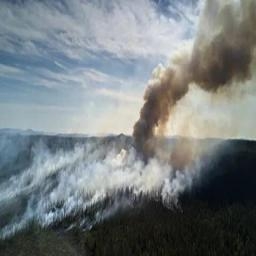Heavy smoke: (105, 5, 256, 157)
Low smoke: (6, 6, 256, 221)
